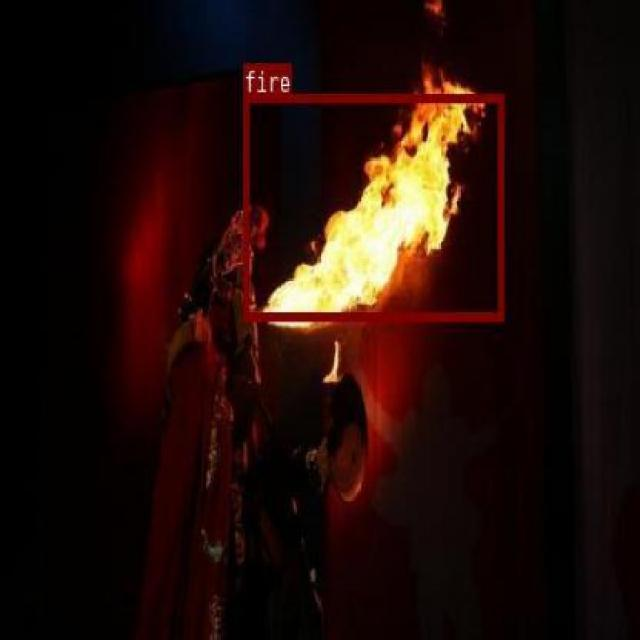Fire: (243, 93, 503, 319)
